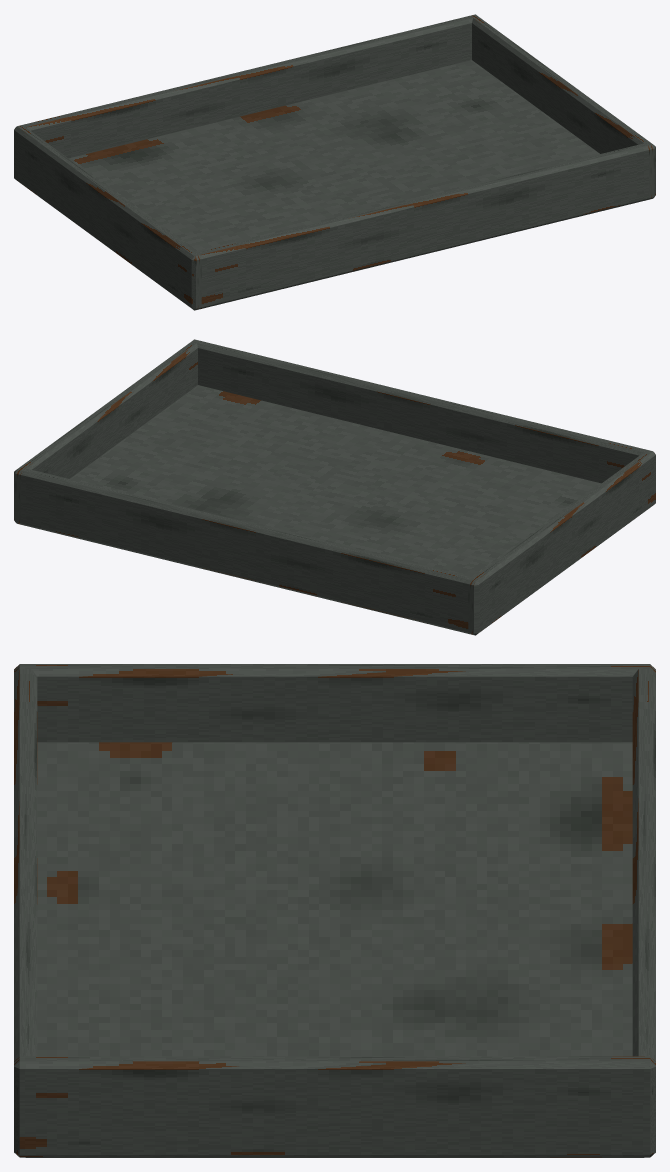
The model's file is instrument_tray.glb.
The picture shows the model from 3 angles, top to bottom: view 1: azimuth 30°, elevation 25°; view 2: azimuth 150°, elevation 25°; view 3: azimuth 270°, elevation 25°; orthographic projection. The views are drawn at different scales.
Parts seen in each view (by area): view 1: 04_Instrument_Tray_Treatment_|_Shared_Pixel_Atlas.001; view 2: 04_Instrument_Tray_Treatment_|_Shared_Pixel_Atlas.001; view 3: 04_Instrument_Tray_Treatment_|_Shared_Pixel_Atlas.001.
Part boxes in pixels (x1,y1,x2,y2): 04_Instrument_Tray_Treatment_|_Shared_Pixel_Atlas.001: (14,14,655,310); 04_Instrument_Tray_Treatment_|_Shared_Pixel_Atlas.001: (14,339,655,635); 04_Instrument_Tray_Treatment_|_Shared_Pixel_Atlas.001: (14,664,655,1157).
Bounding box in the file's own units: 0.492 × 0.0565 × 0.332.
1 material, 1 textured.
